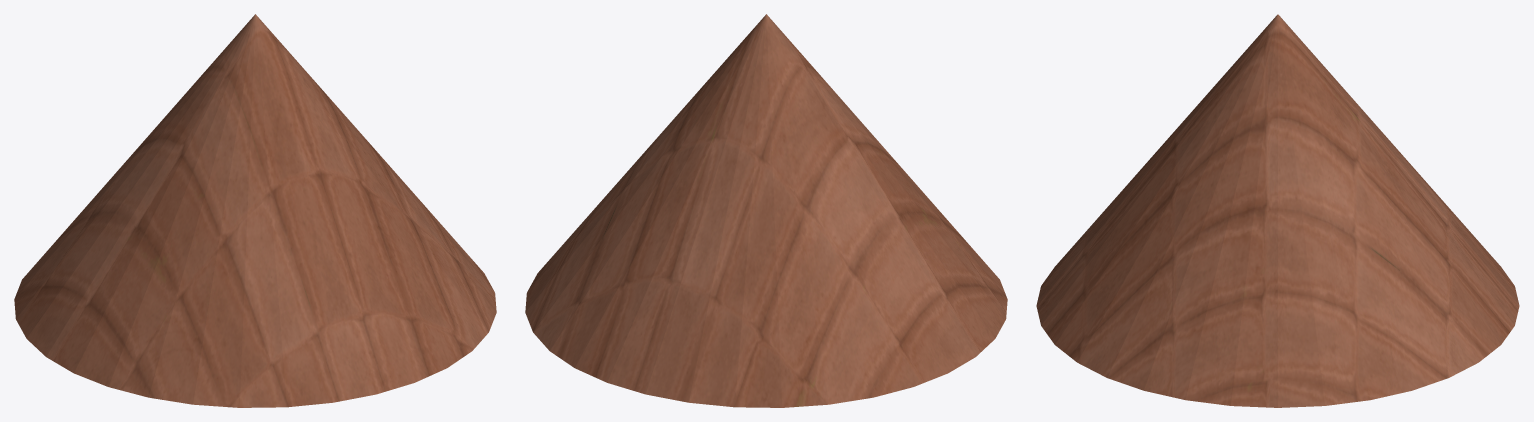
The model's file is roof.obj.
The picture shows the model from 3 angles, left to right: view 1: azimuth 30°, elevation 25°; view 2: azimuth 150°, elevation 25°; view 3: azimuth 270°, elevation 25°; orthographic projection.
Visible parts, largest first — view 1: Cone; view 2: Cone; view 3: Cone.
Boxes of the visible parts, x1,y1,x2,y2 form: Cone: (14,14,496,407); Cone: (525,14,1007,407); Cone: (1036,14,1519,407).
Bounding box in the file's own units: 3 × 2 × 3.
1 material, 1 textured.
